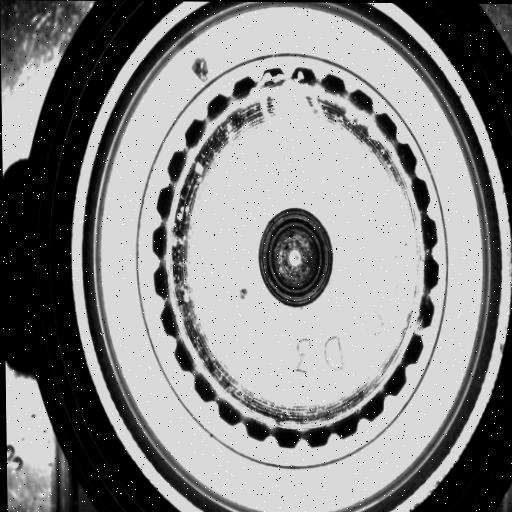gear: (149, 67, 443, 450)
